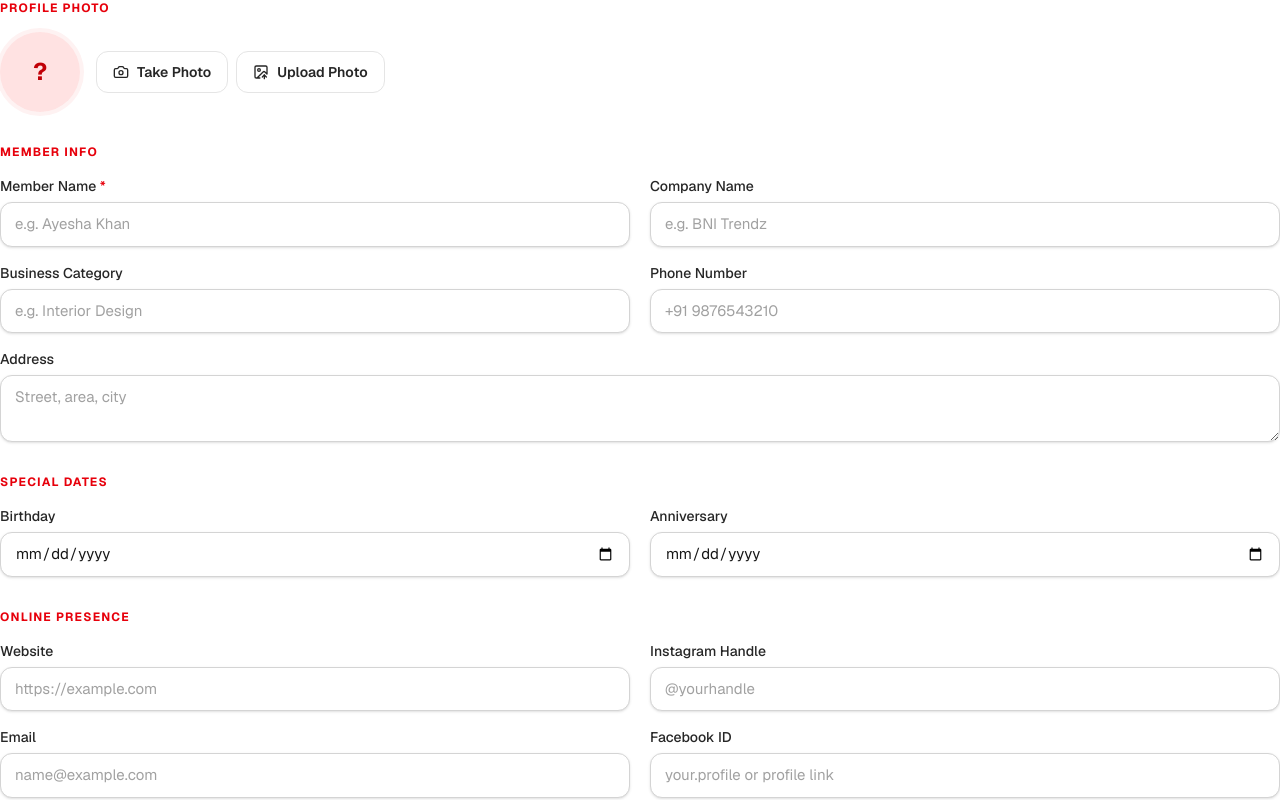
Test: registration form › shows the success screen with a QR code that encodes only the public profile URL
Type "Jane Doe" into the field labelled "Member Name *".
click(315, 224); type("Jane Doe")  # box [0,202,630,246]
(page scrolled)
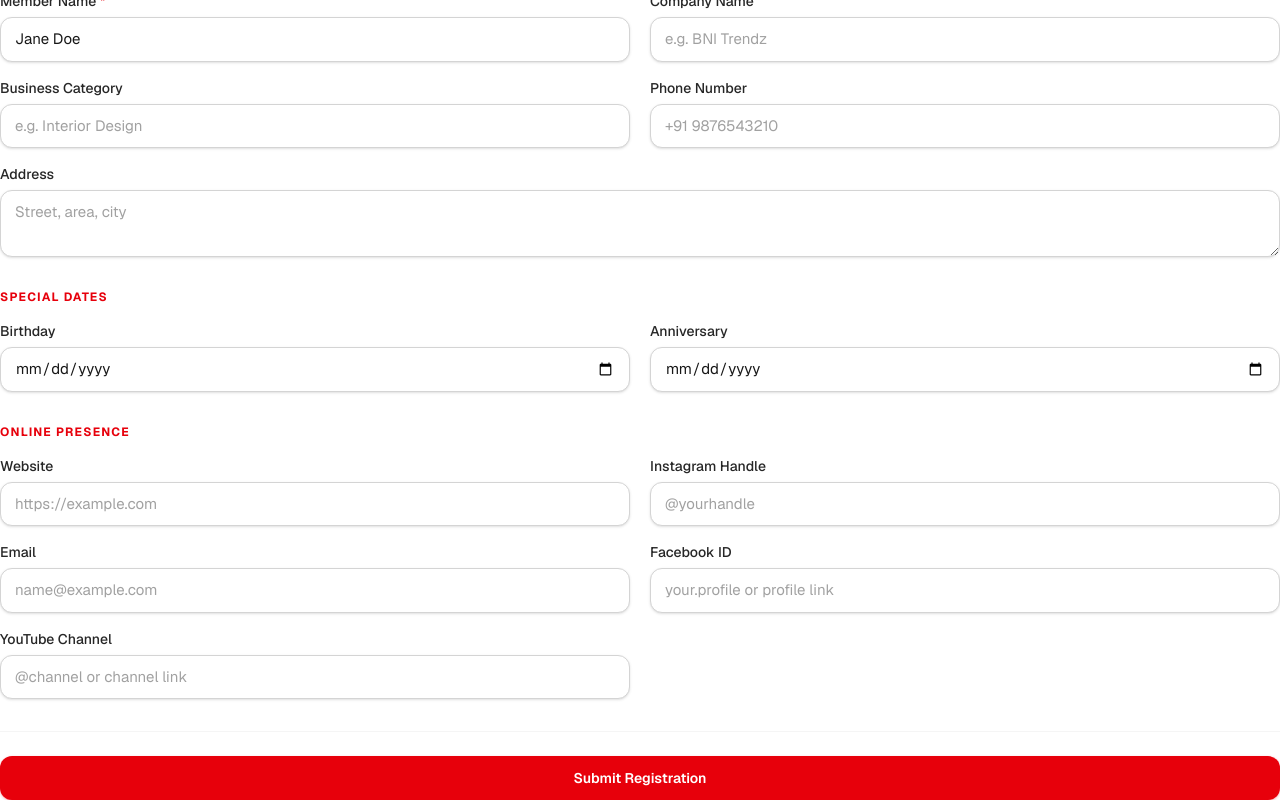
Click the button "Submit Registration".
click(640, 778)  # box [0,756,1279,799]
(page scrolled)
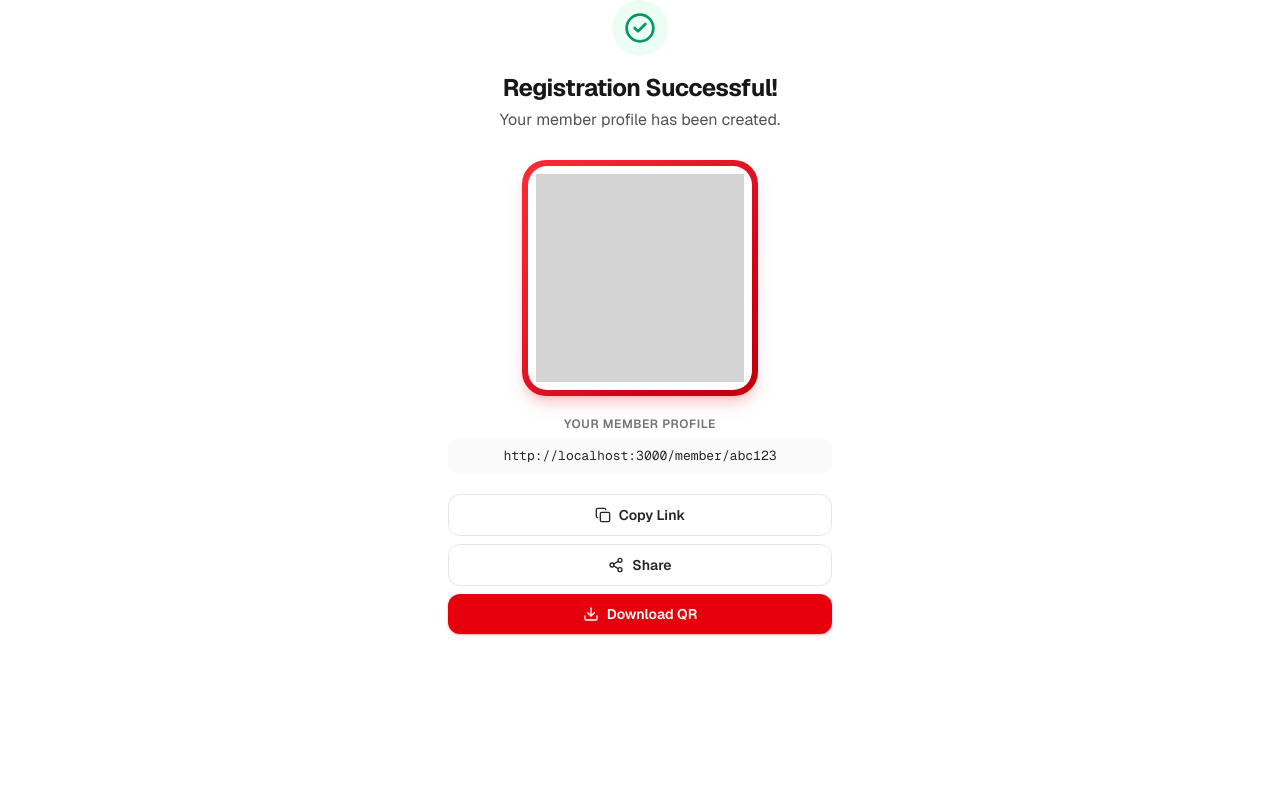
Expected: the heading "Registration Successful!" is shown, [503,72,777,103]
Expected: the text "http://localhost:3000/member/abc123" is shown, [448,438,832,474]
Expected: the button "Copy Link" is shown, [448,494,832,536]
